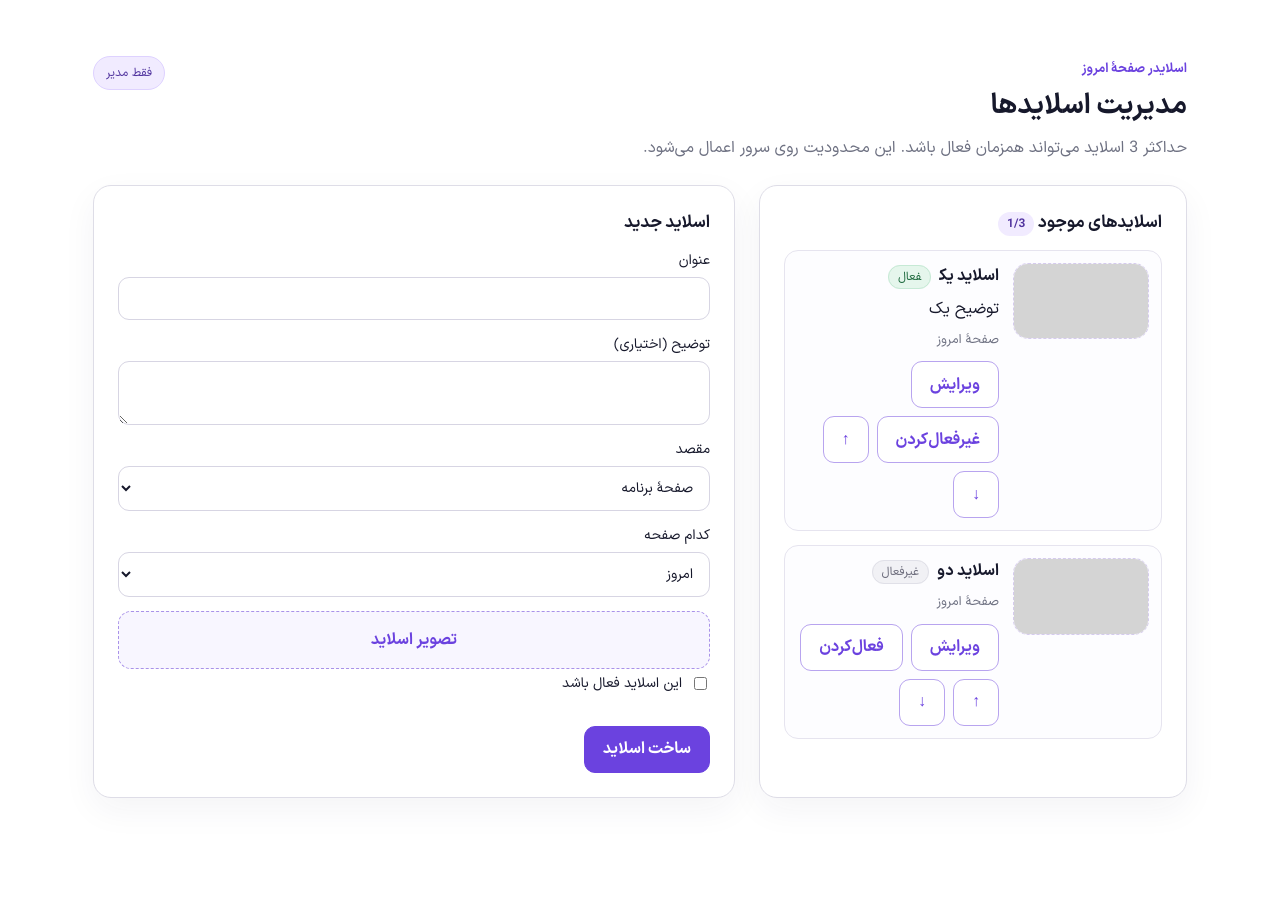
Test: Slider Manager panel (M4.2) › replays the SAME idempotency key after a demanded re-authentication
The width and height of the screenshot is (1280, 900).
Click the button "غیرفعال‌کردن" at (938, 440), box [877, 416, 999, 463]
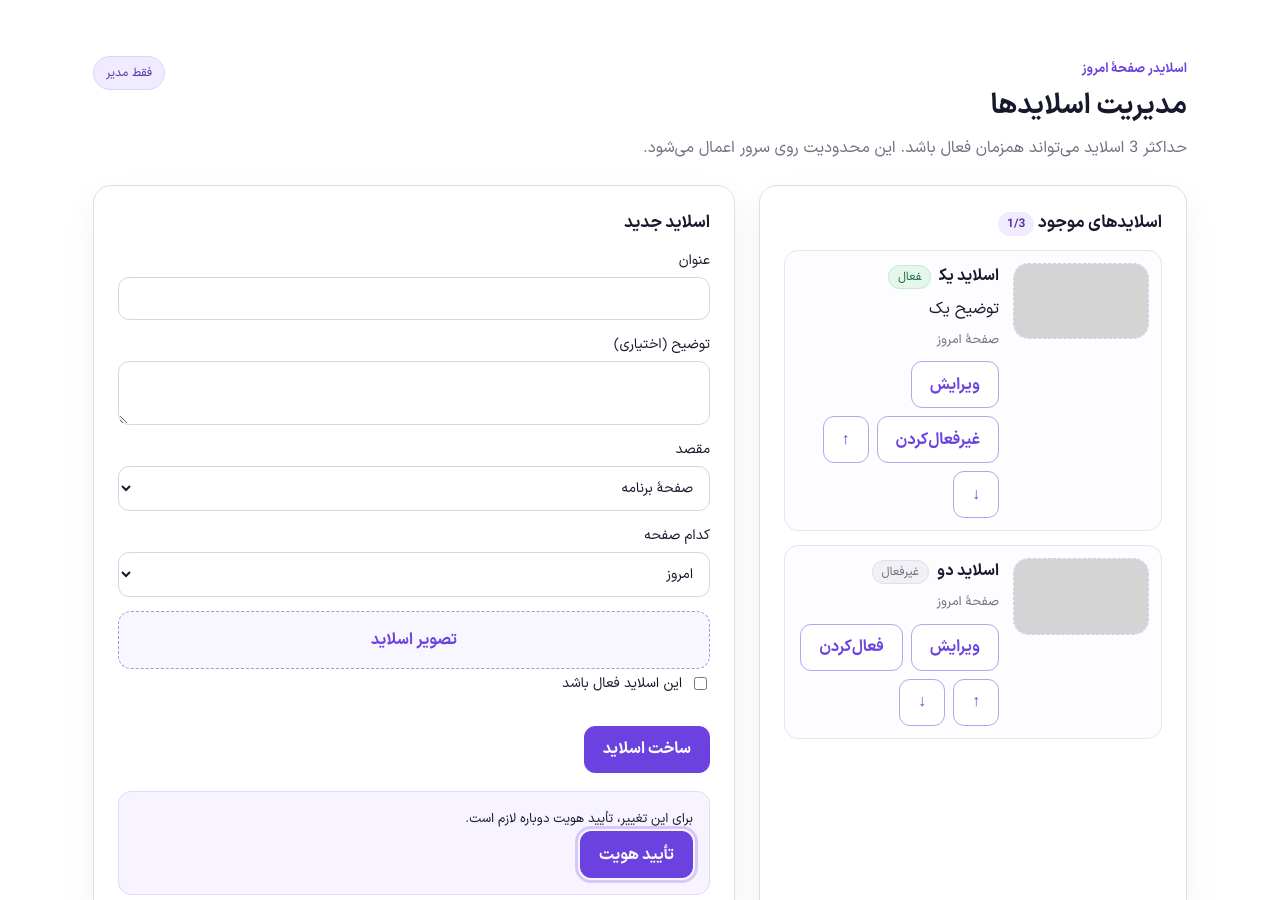
Expected: the text "تأیید هویت دوباره لازم است" is shown, [465, 809, 693, 829]
Click the button "تأیید هویت" at (637, 855), box [580, 831, 693, 878]
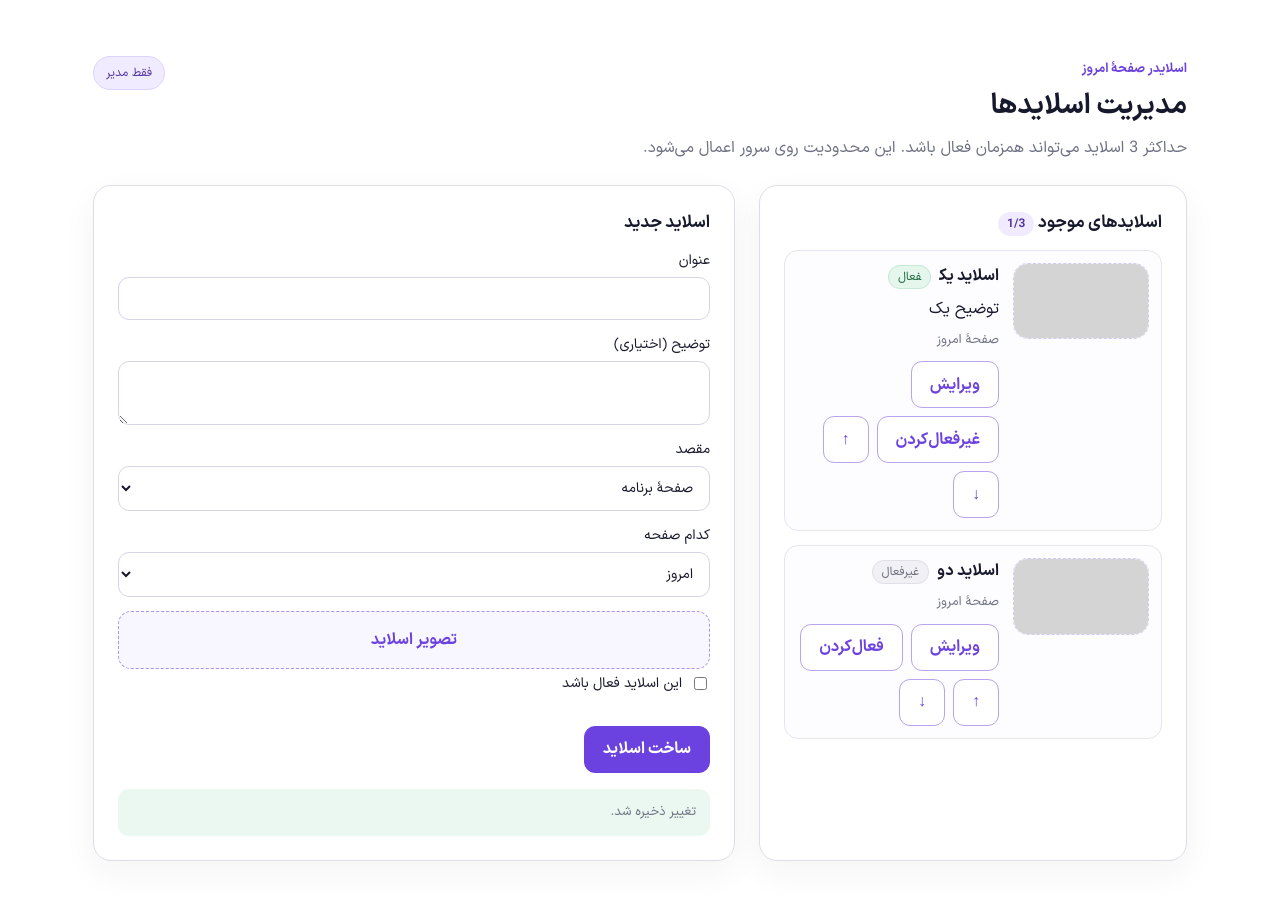
Expected: the text "تغییر ذخیره شد" is shown, [610, 802, 696, 822]
